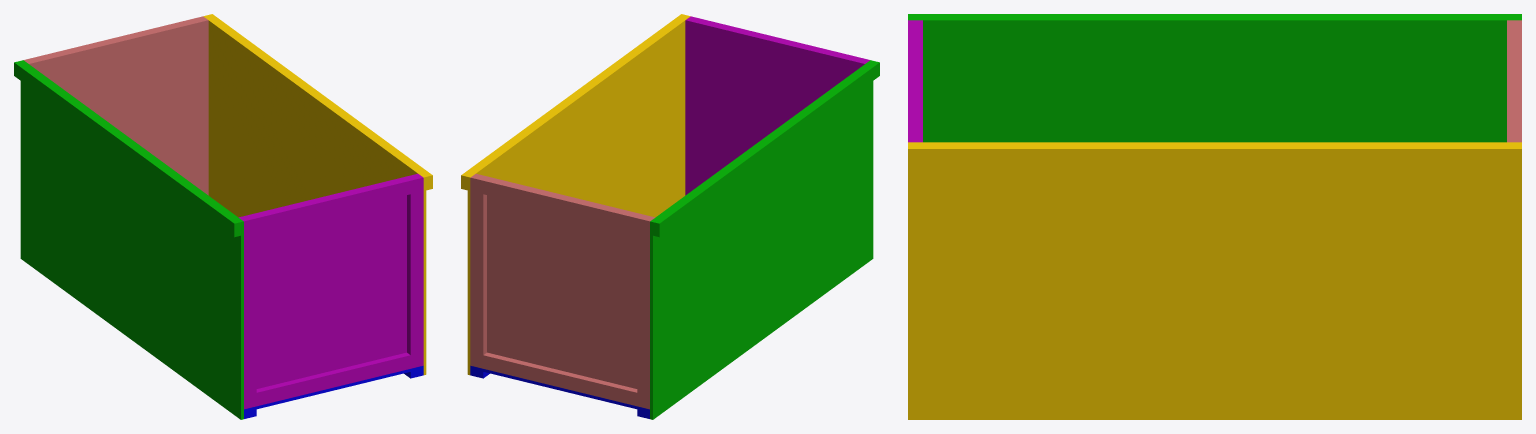
The model's file is result.glb.
3 renders of one model, left to right at view 1: azimuth 30°, elevation 25°; view 2: azimuth 150°, elevation 25°; view 3: azimuth 270°, elevation 25°, orthographic. The views are drawn at different scales.
Visible parts, largest first — view 1: 657cd719-379e-404c-9420-689491b7da62__Box_6, 06524630-f2e1-4fe3-bb6f-a044ffde8138__Box_3, f5b030e8-de8d-4f2e-bc41-7e8284aa6954__undefined, ba4998e2-fd6a-40dd-96c7-5eac57d0f06a__undefined, 62159810-6e48-4e4e-9eb2-77c5073a49cd__Box_7, dedc6af4-26d6-42ed-8f4b-8c6f025d2528__undefined, 60b34d15-44fc-48b5-abd9-38bd3748f304__undefined, 0803e6a9-1e21-4c4f-b0be-746fa92d59c2__Box_5, 946dd088-4d94-4a45-a2e2-f8bebfbd3ed8__Box_4, 1e2fa479-6525-4fd0-8cbf-ec7724302b9d__undefined, ea06fbf3-d3b7-4bdd-9fa5-bc5895ae0bc3__undefined, 85c5b708-bf11-4c57-992e-61f9a8e7d245__Box; view 2: 657cd719-379e-404c-9420-689491b7da62__Box_6, ba4998e2-fd6a-40dd-96c7-5eac57d0f06a__undefined, f5b030e8-de8d-4f2e-bc41-7e8284aa6954__undefined, 06524630-f2e1-4fe3-bb6f-a044ffde8138__Box_3, 62159810-6e48-4e4e-9eb2-77c5073a49cd__Box_7, 63734bbc-19d9-4c78-8e87-369f8a5f18ab__undefined, ea06fbf3-d3b7-4bdd-9fa5-bc5895ae0bc3__undefined, f92bf791-9311-4e12-8b88-91f3a46c205e__undefined, cd41476c-d724-4b92-8ded-b9031d1f17d9__undefined, 1e2fa479-6525-4fd0-8cbf-ec7724302b9d__undefined, 60b34d15-44fc-48b5-abd9-38bd3748f304__undefined, 85c5b708-bf11-4c57-992e-61f9a8e7d245__Box; view 3: f5b030e8-de8d-4f2e-bc41-7e8284aa6954__undefined, 657cd719-379e-404c-9420-689491b7da62__Box_6, 1e2fa479-6525-4fd0-8cbf-ec7724302b9d__undefined, 62159810-6e48-4e4e-9eb2-77c5073a49cd__Box_7, 60b34d15-44fc-48b5-abd9-38bd3748f304__undefined, ea06fbf3-d3b7-4bdd-9fa5-bc5895ae0bc3__undefined, 06524630-f2e1-4fe3-bb6f-a044ffde8138__Box_3, ba4998e2-fd6a-40dd-96c7-5eac57d0f06a__undefined.
Boxes of the visible parts, left/top/right/bottom form: 657cd719-379e-404c-9420-689491b7da62__Box_6: left=20, top=60, right=243, bottom=419; 06524630-f2e1-4fe3-bb6f-a044ffde8138__Box_3: left=238, top=173, right=419, bottom=388; f5b030e8-de8d-4f2e-bc41-7e8284aa6954__undefined: left=203, top=15, right=426, bottom=375; ba4998e2-fd6a-40dd-96c7-5eac57d0f06a__undefined: left=27, top=19, right=208, bottom=195; 62159810-6e48-4e4e-9eb2-77c5073a49cd__Box_7: left=14, top=61, right=240, bottom=237; dedc6af4-26d6-42ed-8f4b-8c6f025d2528__undefined: left=407, top=175, right=423, bottom=368; 60b34d15-44fc-48b5-abd9-38bd3748f304__undefined: left=253, top=178, right=410, bottom=231; 0803e6a9-1e21-4c4f-b0be-746fa92d59c2__Box_5: left=256, top=352, right=410, bottom=406; 946dd088-4d94-4a45-a2e2-f8bebfbd3ed8__Box_4: left=240, top=215, right=256, bottom=409; 1e2fa479-6525-4fd0-8cbf-ec7724302b9d__undefined: left=206, top=14, right=432, bottom=190; ea06fbf3-d3b7-4bdd-9fa5-bc5895ae0bc3__undefined: left=37, top=19, right=193, bottom=59; 85c5b708-bf11-4c57-992e-61f9a8e7d245__Box: left=244, top=365, right=423, bottom=412; 657cd719-379e-404c-9420-689491b7da62__Box_6: left=650, top=60, right=873, bottom=419; ba4998e2-fd6a-40dd-96c7-5eac57d0f06a__undefined: left=474, top=173, right=655, bottom=388; f5b030e8-de8d-4f2e-bc41-7e8284aa6954__undefined: left=467, top=15, right=690, bottom=375; 06524630-f2e1-4fe3-bb6f-a044ffde8138__Box_3: left=685, top=19, right=866, bottom=195; 62159810-6e48-4e4e-9eb2-77c5073a49cd__Box_7: left=653, top=61, right=879, bottom=237; 63734bbc-19d9-4c78-8e87-369f8a5f18ab__undefined: left=470, top=175, right=486, bottom=368; ea06fbf3-d3b7-4bdd-9fa5-bc5895ae0bc3__undefined: left=483, top=178, right=640, bottom=231; f92bf791-9311-4e12-8b88-91f3a46c205e__undefined: left=483, top=352, right=637, bottom=406; cd41476c-d724-4b92-8ded-b9031d1f17d9__undefined: left=637, top=215, right=653, bottom=409; 1e2fa479-6525-4fd0-8cbf-ec7724302b9d__undefined: left=461, top=14, right=687, bottom=190; 60b34d15-44fc-48b5-abd9-38bd3748f304__undefined: left=700, top=19, right=856, bottom=59; 85c5b708-bf11-4c57-992e-61f9a8e7d245__Box: left=470, top=365, right=649, bottom=412; f5b030e8-de8d-4f2e-bc41-7e8284aa6954__undefined: left=908, top=142, right=1521, bottom=419; 657cd719-379e-404c-9420-689491b7da62__Box_6: left=908, top=18, right=1521, bottom=142; 1e2fa479-6525-4fd0-8cbf-ec7724302b9d__undefined: left=908, top=144, right=1521, bottom=167; 62159810-6e48-4e4e-9eb2-77c5073a49cd__Box_7: left=908, top=14, right=1521, bottom=18; 60b34d15-44fc-48b5-abd9-38bd3748f304__undefined: left=908, top=29, right=918, bottom=133; ea06fbf3-d3b7-4bdd-9fa5-bc5895ae0bc3__undefined: left=1511, top=29, right=1521, bottom=133; 06524630-f2e1-4fe3-bb6f-a044ffde8138__Box_3: left=918, top=20, right=922, bottom=142; ba4998e2-fd6a-40dd-96c7-5eac57d0f06a__undefined: left=1507, top=20, right=1511, bottom=142.
Bounding box in the file's own units: 552 × 526 × 1062.
